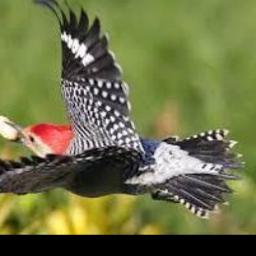Woodpecker: (0, 0, 246, 218)
